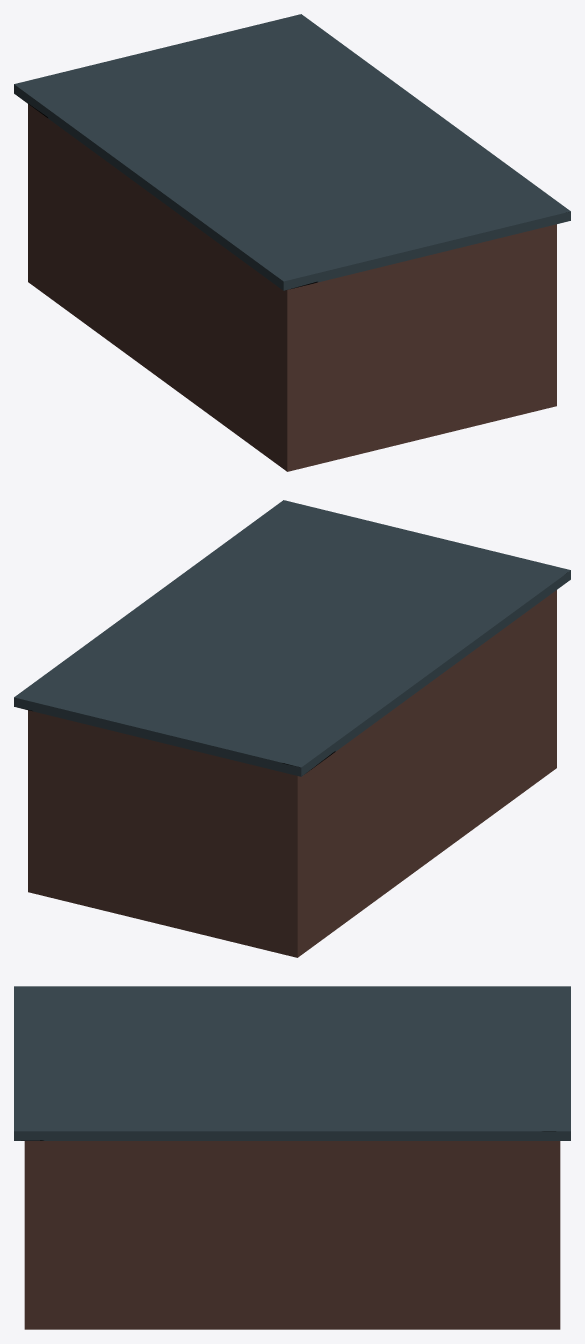
The model's file is station-counter-authored-atlas.glb.
3 views of the same model, one above another, from view 1: azimuth 30°, elevation 25°; view 2: azimuth 150°, elevation 25°; view 3: azimuth 270°, elevation 25° (orthographic). The views are drawn at different scales.
Parts seen in each view (by area): view 1: Authored surface.011; view 2: Authored surface.011; view 3: Authored surface.011.
Part boxes in pixels (box(x1,y1,x2,y2)): Authored surface.011: box(14, 14, 570, 471); Authored surface.011: box(14, 500, 570, 957); Authored surface.011: box(14, 986, 570, 1329).
Size of the model in its own units: 1.6 by 1.04 by 2.6.
Materials: 1 (1 with a texture image).
